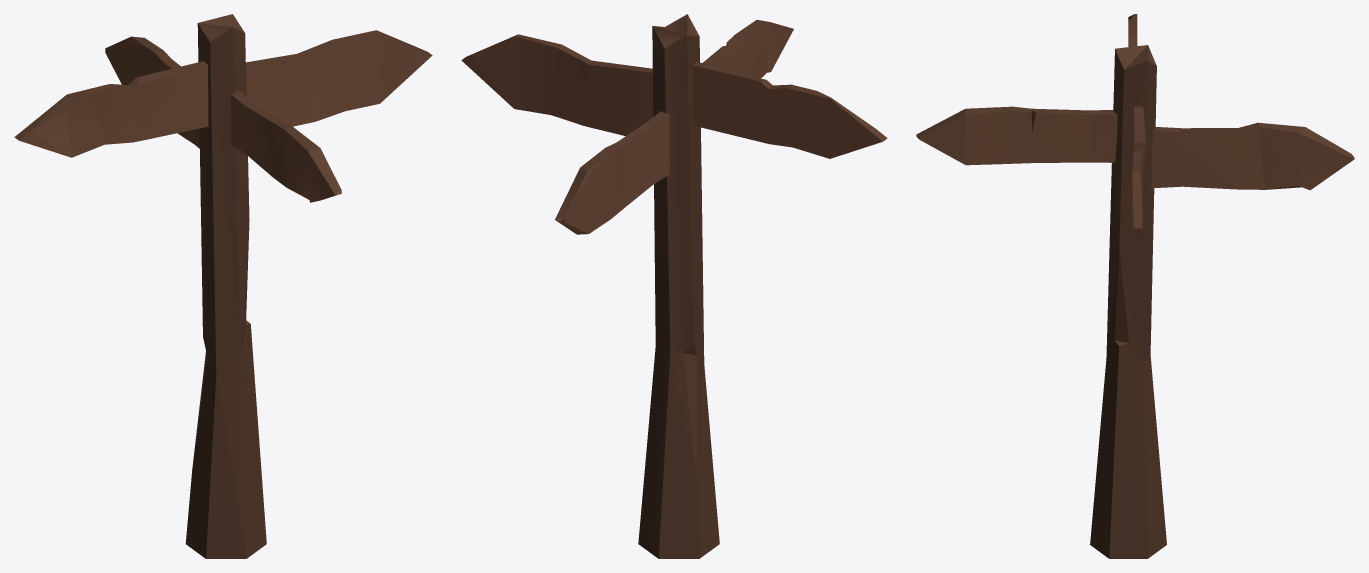
The model's file is Pointer.fbx.
The picture shows the model from 3 angles, left to right: view 1: azimuth 30°, elevation 25°; view 2: azimuth 150°, elevation 25°; view 3: azimuth 270°, elevation 25°; orthographic projection. The views are drawn at different scales.
Visible parts, largest first — view 1: Pointer_1; view 2: Pointer_1; view 3: Pointer_1.
Boxes of the visible parts, left/top/right/bottom form: Pointer_1: left=14, top=14, right=432, bottom=558; Pointer_1: left=461, top=14, right=887, bottom=558; Pointer_1: left=916, top=14, right=1354, bottom=558.
Size of the model in its own units: 2.06 by 2.47 by 1.98.
